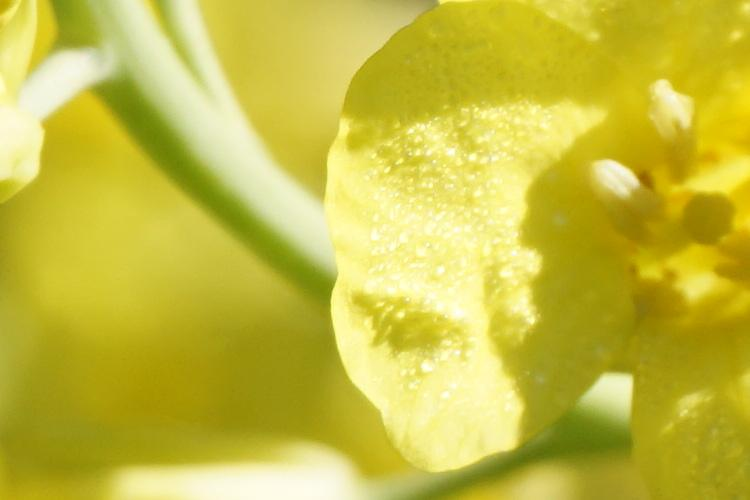yellow: (337, 22, 749, 493)
